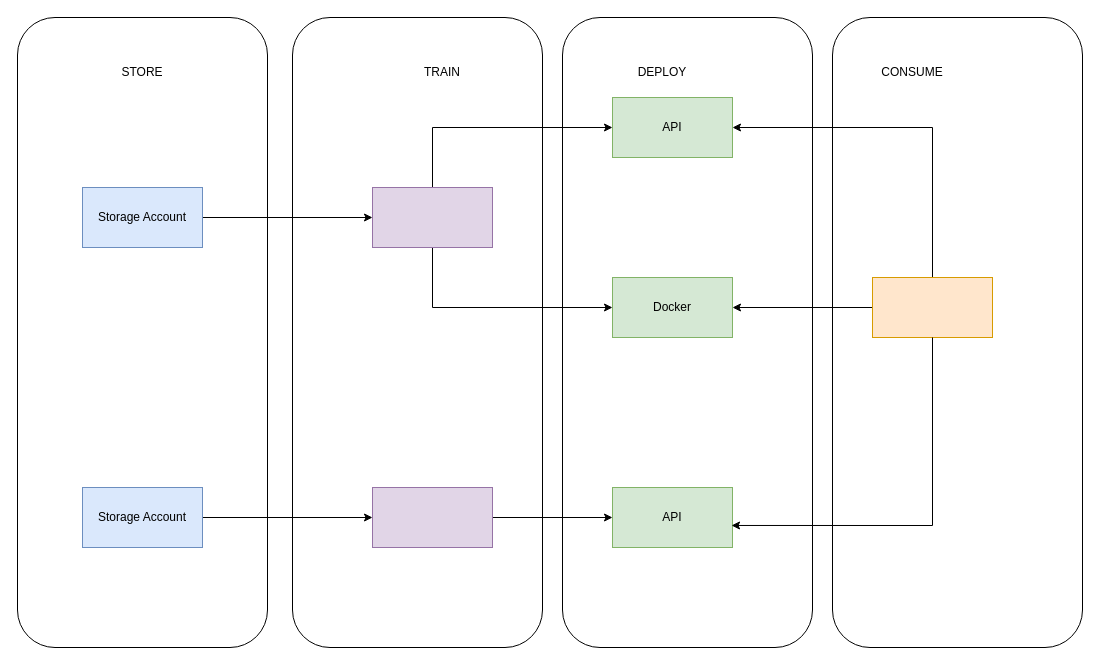
Image size: 1100x665. Some labels were removed from this diagram. The centre of each missing label's shape, as x and y in pixels:
Machine Learning: the point at 432,517
Modèle Custom Vision: the point at 432,217
WEBSITE: the point at 932,307
